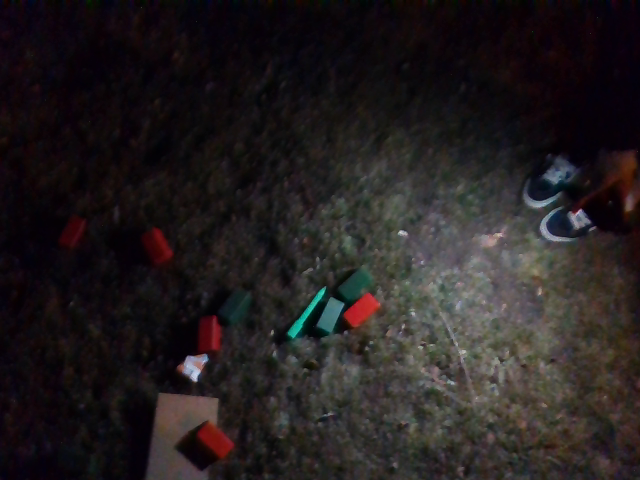Probe: (280, 281, 328, 340)
